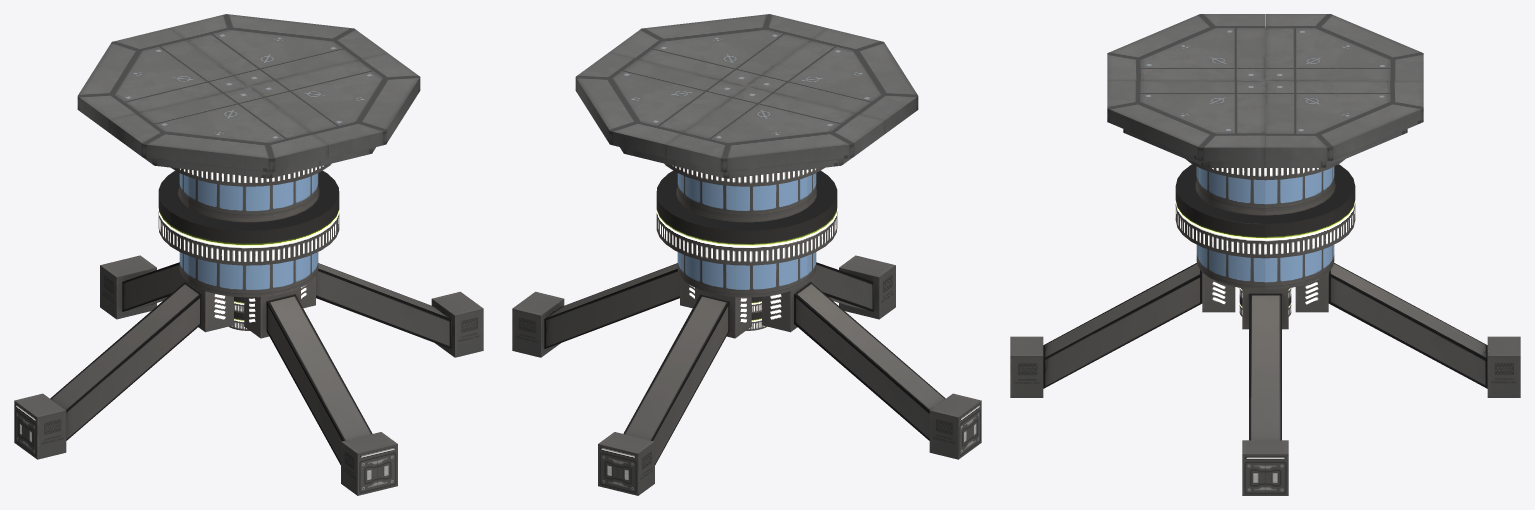
File: Sci-Fi_Prefab_Var16-B.fbx
3 renders of one model, left to right at view 1: azimuth 30°, elevation 25°; view 2: azimuth 150°, elevation 25°; view 3: azimuth 270°, elevation 25°, orthographic.
Parts seen in each view (by area): view 1: ProjectRG_Environment_Sci-Fi_OctagonPlatform.046, ProjectRG_Environment_Sci-Fi_BottomFoundation.016, ProjectRG_Environment_Sci-Fi_BottomFoundation.017, ProjectRG_Environment_Sci-Fi_OctagonPlatform.047, ProjectRG_Environment_Sci-Fi_OctagonPlatform.045, ProjectRG_Environment_Sci-Fi_DonutViewingBlock.029, ProjectRG_Environment_Sci-Fi_OctagonPlatform.048, ProjectRG_Environment_Sci-Fi_BottomFoundation.014, ProjectRG_Environment_Sci-Fi_TowerGlassBlock.030, ProjectRG_Environment_Sci-Fi_TowerGlassBlock.029, ProjectRG_Environment_Sci-Fi_BottomFoundation.015, ProjectRG_Environment_Sci-Fi_DonutViewingBlock.031 (+1 smaller); view 2: ProjectRG_Environment_Sci-Fi_OctagonPlatform.045, ProjectRG_Environment_Sci-Fi_BottomFoundation.016, ProjectRG_Environment_Sci-Fi_BottomFoundation.015, ProjectRG_Environment_Sci-Fi_OctagonPlatform.048, ProjectRG_Environment_Sci-Fi_OctagonPlatform.046, ProjectRG_Environment_Sci-Fi_DonutViewingBlock.029, ProjectRG_Environment_Sci-Fi_OctagonPlatform.047, ProjectRG_Environment_Sci-Fi_BottomFoundation.014, ProjectRG_Environment_Sci-Fi_TowerGlassBlock.030, ProjectRG_Environment_Sci-Fi_TowerGlassBlock.029, ProjectRG_Environment_Sci-Fi_BottomFoundation.017, ProjectRG_Environment_Sci-Fi_DonutViewingBlock.031 (+1 smaller); view 3: ProjectRG_Environment_Sci-Fi_OctagonPlatform.047, ProjectRG_Environment_Sci-Fi_OctagonPlatform.048, ProjectRG_Environment_Sci-Fi_BottomFoundation.015, ProjectRG_Environment_Sci-Fi_BottomFoundation.017, ProjectRG_Environment_Sci-Fi_DonutViewingBlock.029, ProjectRG_Environment_Sci-Fi_OctagonPlatform.045, ProjectRG_Environment_Sci-Fi_OctagonPlatform.046, ProjectRG_Environment_Sci-Fi_BottomFoundation.014, ProjectRG_Environment_Sci-Fi_TowerGlassBlock.030, ProjectRG_Environment_Sci-Fi_TowerGlassBlock.029, ProjectRG_Environment_Sci-Fi_DonutViewingBlock.031, ProjectRG_Environment_Sci-Fi_OctagonPlatform.051 (+1 smaller).
Boxes of the visible parts, <box> form: ProjectRG_Environment_Sci-Fi_OctagonPlatform.046: <box>110,86,328,172</box>; ProjectRG_Environment_Sci-Fi_BottomFoundation.016: <box>14,276,233,459</box>; ProjectRG_Environment_Sci-Fi_BottomFoundation.017: <box>244,287,397,495</box>; ProjectRG_Environment_Sci-Fi_OctagonPlatform.047: <box>249,52,420,158</box>; ProjectRG_Environment_Sci-Fi_OctagonPlatform.045: <box>77,28,248,133</box>; ProjectRG_Environment_Sci-Fi_DonutViewingBlock.029: <box>158,170,339,265</box>; ProjectRG_Environment_Sci-Fi_OctagonPlatform.048: <box>169,14,386,86</box>; ProjectRG_Environment_Sci-Fi_BottomFoundation.014: <box>301,263,483,357</box>; ProjectRG_Environment_Sci-Fi_TowerGlassBlock.030: <box>179,191,318,297</box>; ProjectRG_Environment_Sci-Fi_TowerGlassBlock.029: <box>179,173,318,218</box>; ProjectRG_Environment_Sci-Fi_BottomFoundation.015: <box>100,255,181,319</box>; ProjectRG_Environment_Sci-Fi_DonutViewingBlock.031: <box>171,163,331,186</box>; ProjectRG_Environment_Sci-Fi_OctagonPlatform.045: <box>667,86,885,172</box>; ProjectRG_Environment_Sci-Fi_BottomFoundation.016: <box>762,276,981,459</box>; ProjectRG_Environment_Sci-Fi_BottomFoundation.015: <box>598,287,751,495</box>; ProjectRG_Environment_Sci-Fi_OctagonPlatform.048: <box>575,52,746,158</box>; ProjectRG_Environment_Sci-Fi_OctagonPlatform.046: <box>747,28,918,133</box>; ProjectRG_Environment_Sci-Fi_DonutViewingBlock.029: <box>656,170,837,265</box>; ProjectRG_Environment_Sci-Fi_OctagonPlatform.047: <box>609,14,826,86</box>; ProjectRG_Environment_Sci-Fi_BottomFoundation.014: <box>512,263,694,357</box>; ProjectRG_Environment_Sci-Fi_TowerGlassBlock.030: <box>677,191,816,297</box>; ProjectRG_Environment_Sci-Fi_TowerGlassBlock.029: <box>677,173,816,218</box>; ProjectRG_Environment_Sci-Fi_BottomFoundation.017: <box>814,255,895,319</box>; ProjectRG_Environment_Sci-Fi_DonutViewingBlock.031: <box>664,163,824,186</box>; ProjectRG_Environment_Sci-Fi_OctagonPlatform.047: <box>1107,81,1265,161</box>; ProjectRG_Environment_Sci-Fi_OctagonPlatform.048: <box>1265,81,1423,161</box>; ProjectRG_Environment_Sci-Fi_BottomFoundation.015: <box>1295,263,1520,397</box>; ProjectRG_Environment_Sci-Fi_BottomFoundation.017: <box>1010,263,1235,397</box>; ProjectRG_Environment_Sci-Fi_DonutViewingBlock.029: <box>1175,164,1355,258</box>; ProjectRG_Environment_Sci-Fi_OctagonPlatform.045: <box>1265,14,1423,80</box>; ProjectRG_Environment_Sci-Fi_OctagonPlatform.046: <box>1107,14,1265,80</box>; ProjectRG_Environment_Sci-Fi_BottomFoundation.014: <box>1242,288,1288,495</box>; ProjectRG_Environment_Sci-Fi_TowerGlassBlock.030: <box>1196,184,1334,289</box>; ProjectRG_Environment_Sci-Fi_TowerGlassBlock.029: <box>1196,166,1334,211</box>; ProjectRG_Environment_Sci-Fi_DonutViewingBlock.031: <box>1186,159,1344,180</box>; ProjectRG_Environment_Sci-Fi_OctagonPlatform.051: <box>1123,129,1265,167</box>.
Bounding box in the file's own units: 3268 × 2171 × 3268.
